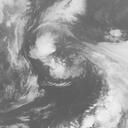cyclone: (33, 31, 83, 82)
